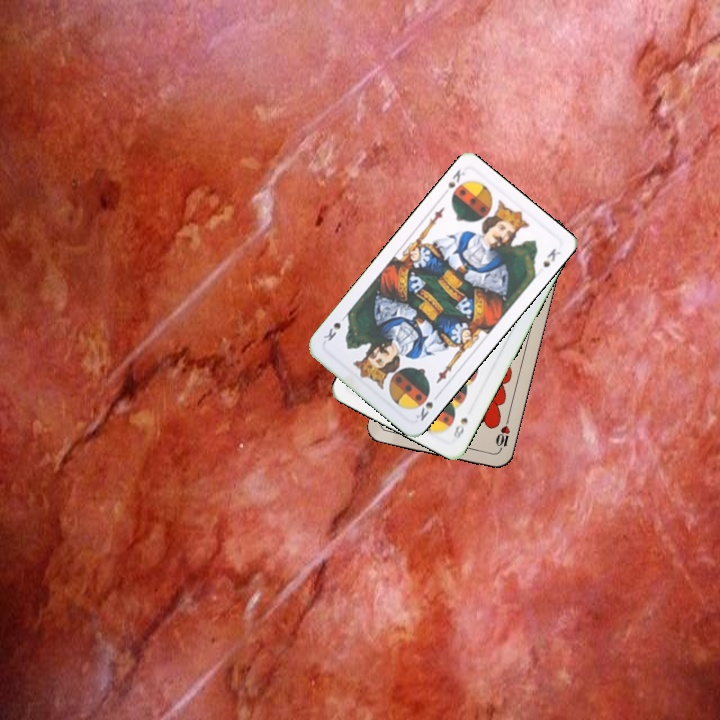H10: (491, 415, 513, 455)
S8: (449, 413, 471, 442)
SK: (439, 165, 467, 200), (412, 388, 436, 424)
